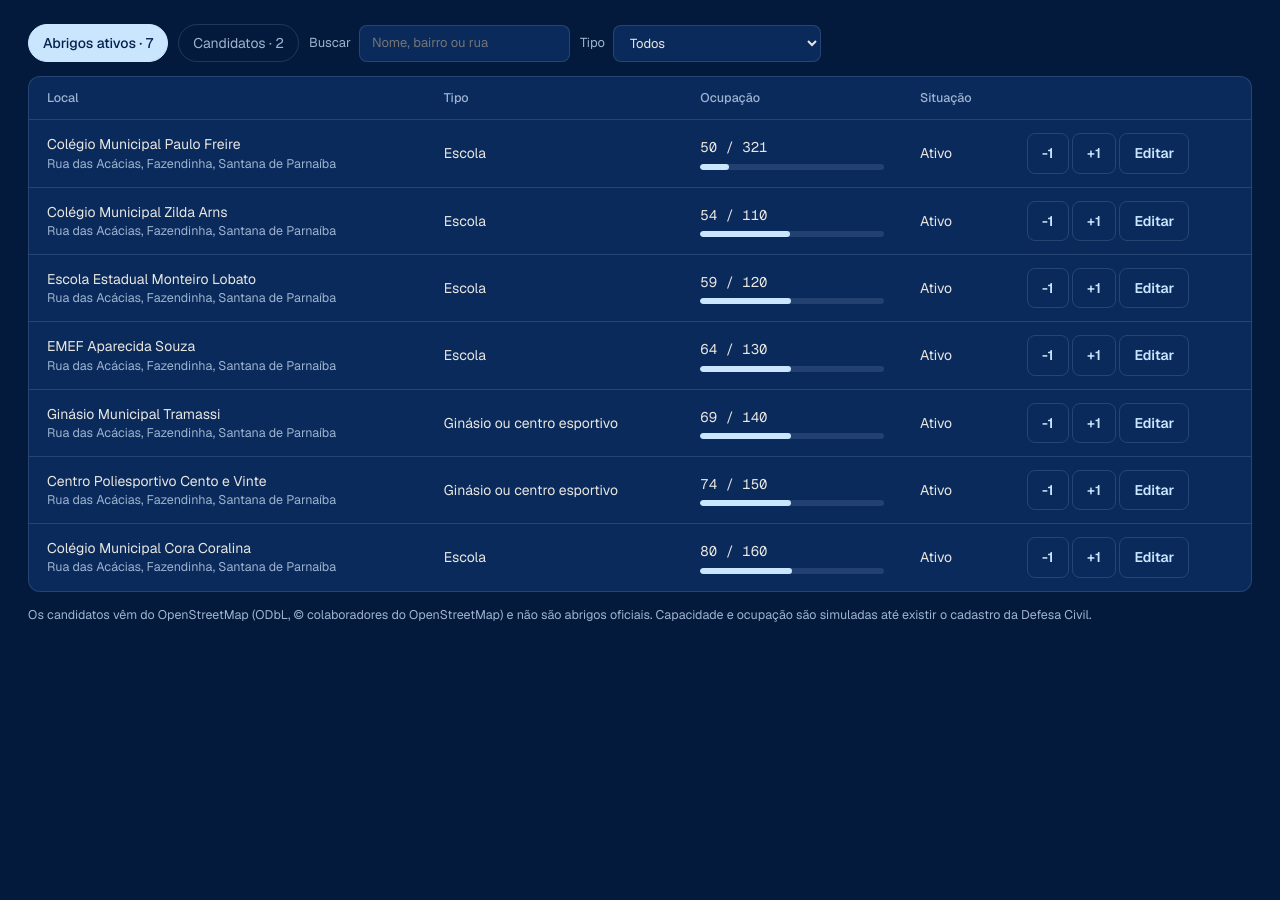
Abrigos › mostra erro quando o abrigo está lotado
Expected: the button "Abrigos ativos · 7" is shown, [28,24,168,62]
Click the button "Editar" in the row of "Colégio Municipal Paulo Freire".
click(1154, 154)  # box [1120,133,1189,174]
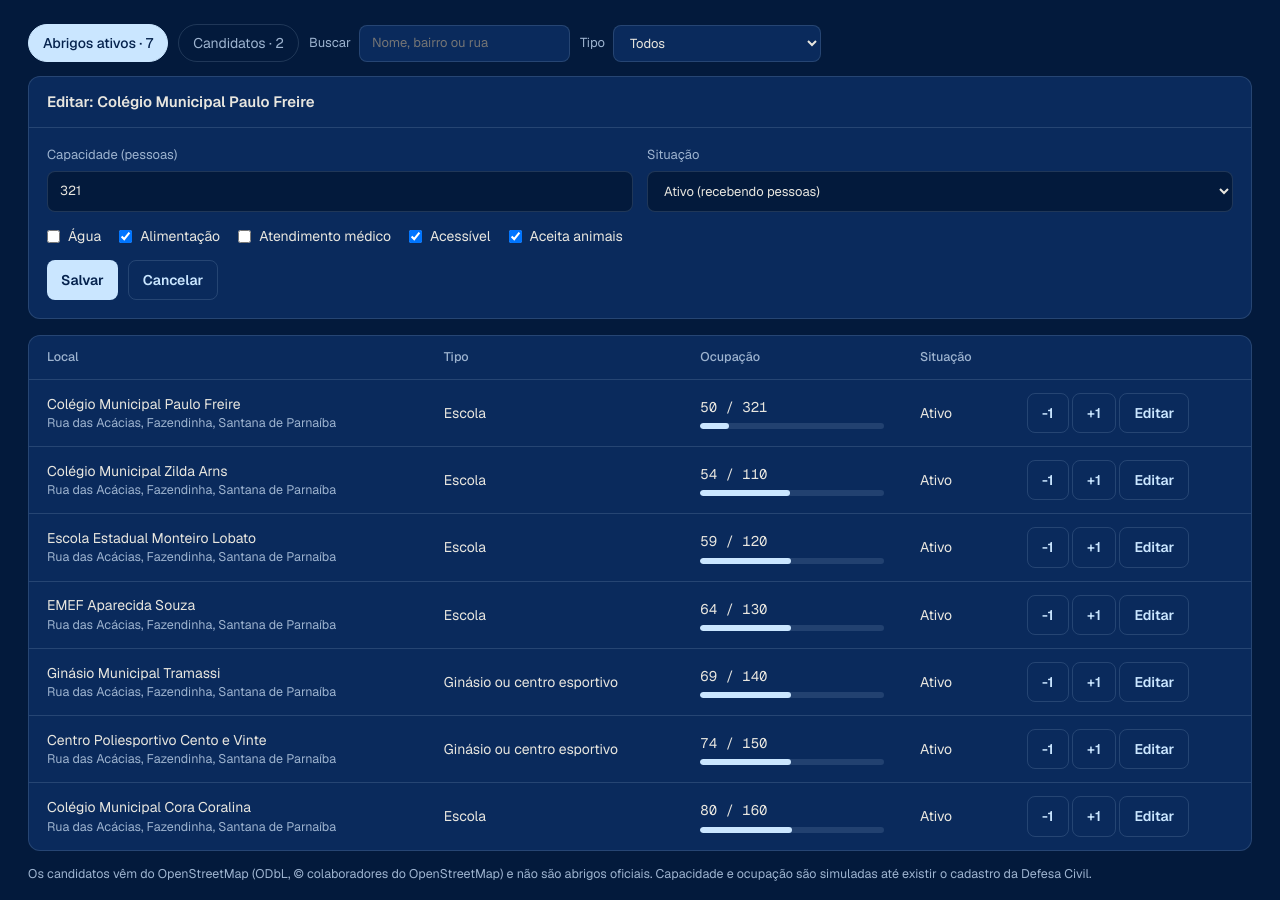
Replace the text in the number field labelled "Capacidade (pessoas)" with "1" at coordinates (340, 191), box [47,171,633,212]
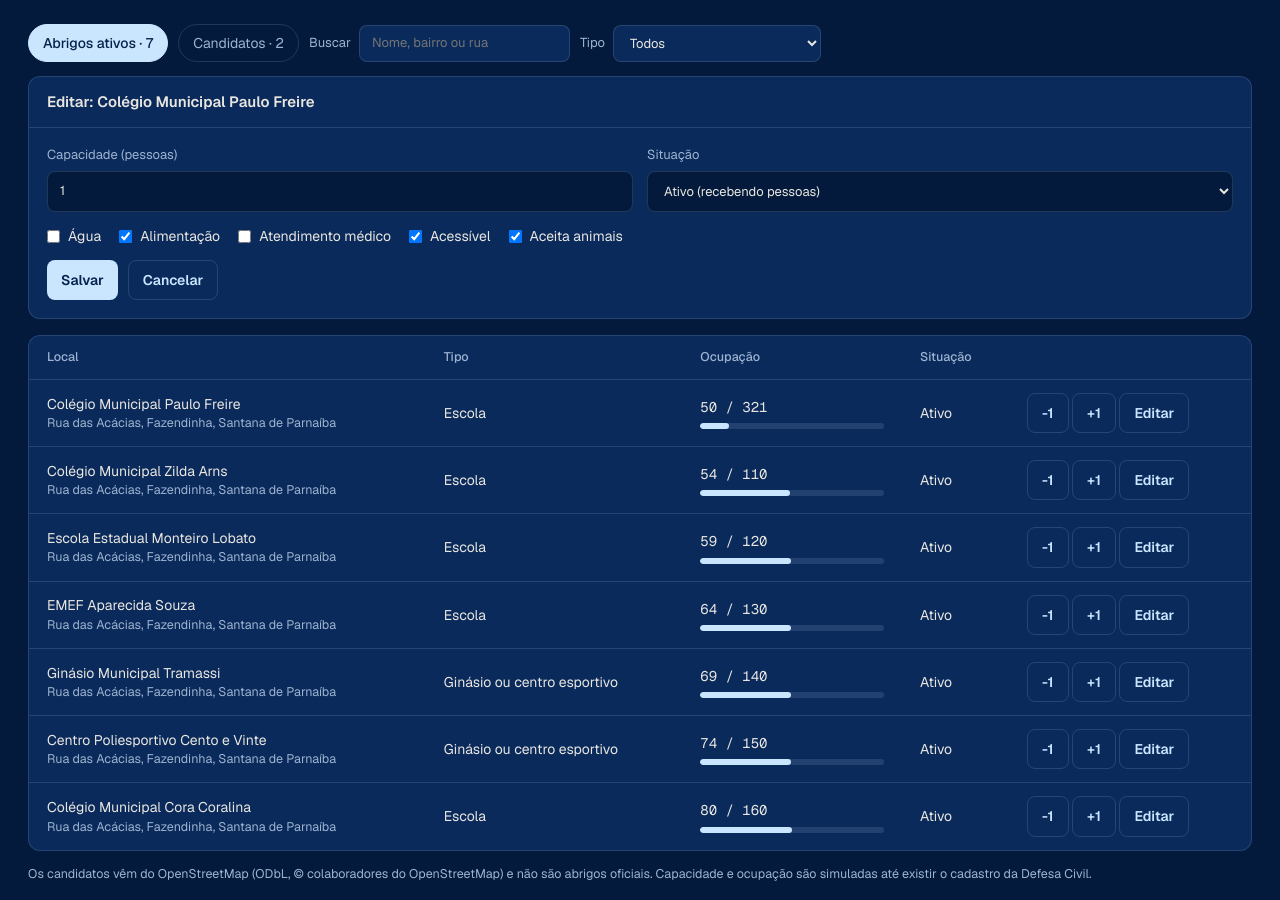
Click the button "Salvar".
click(82, 280)  # box [47,260,118,300]
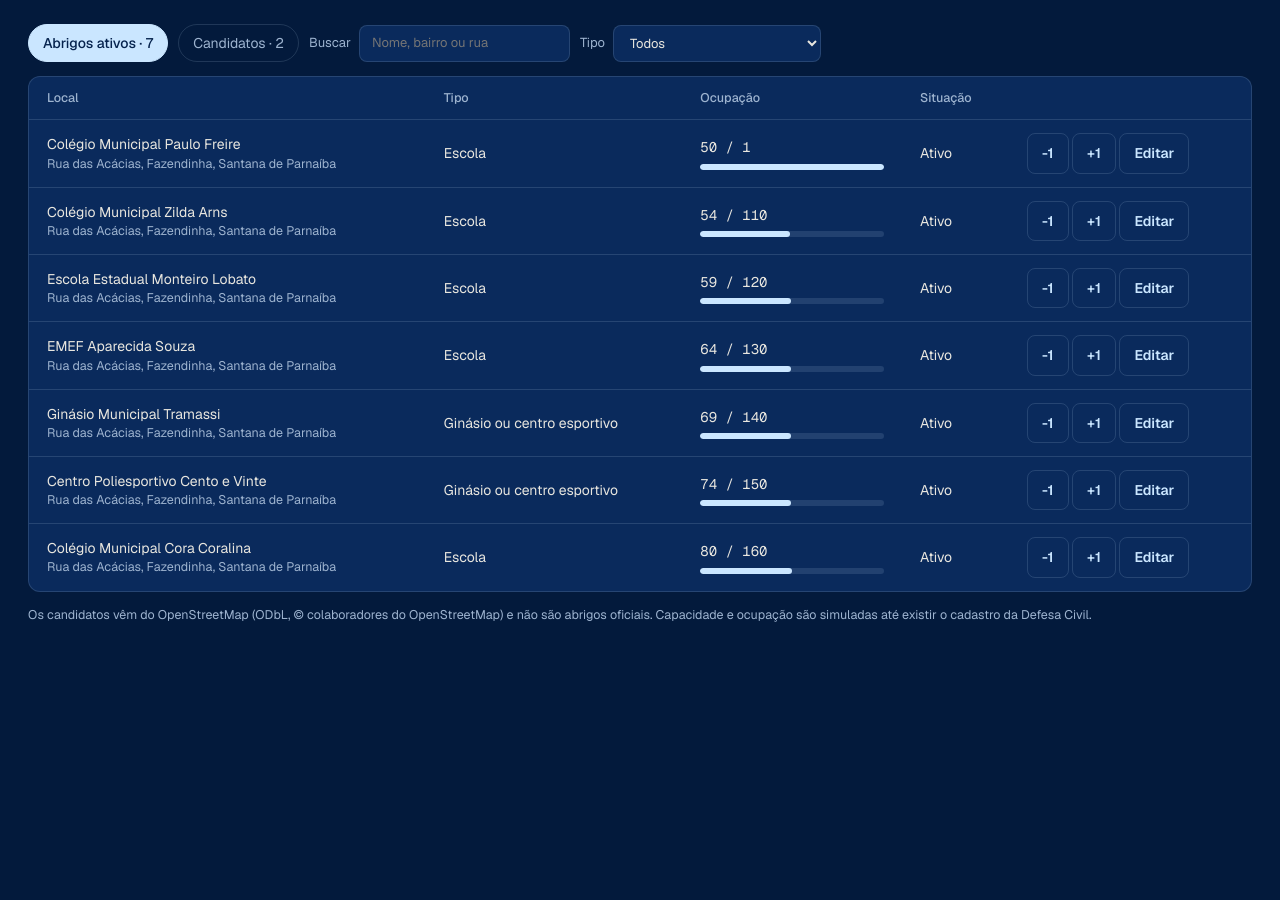
Result: the heading "Editar:" is gone
Click the button named "Registrar entrada".
click(1094, 154)  # box [1072,133,1116,174]
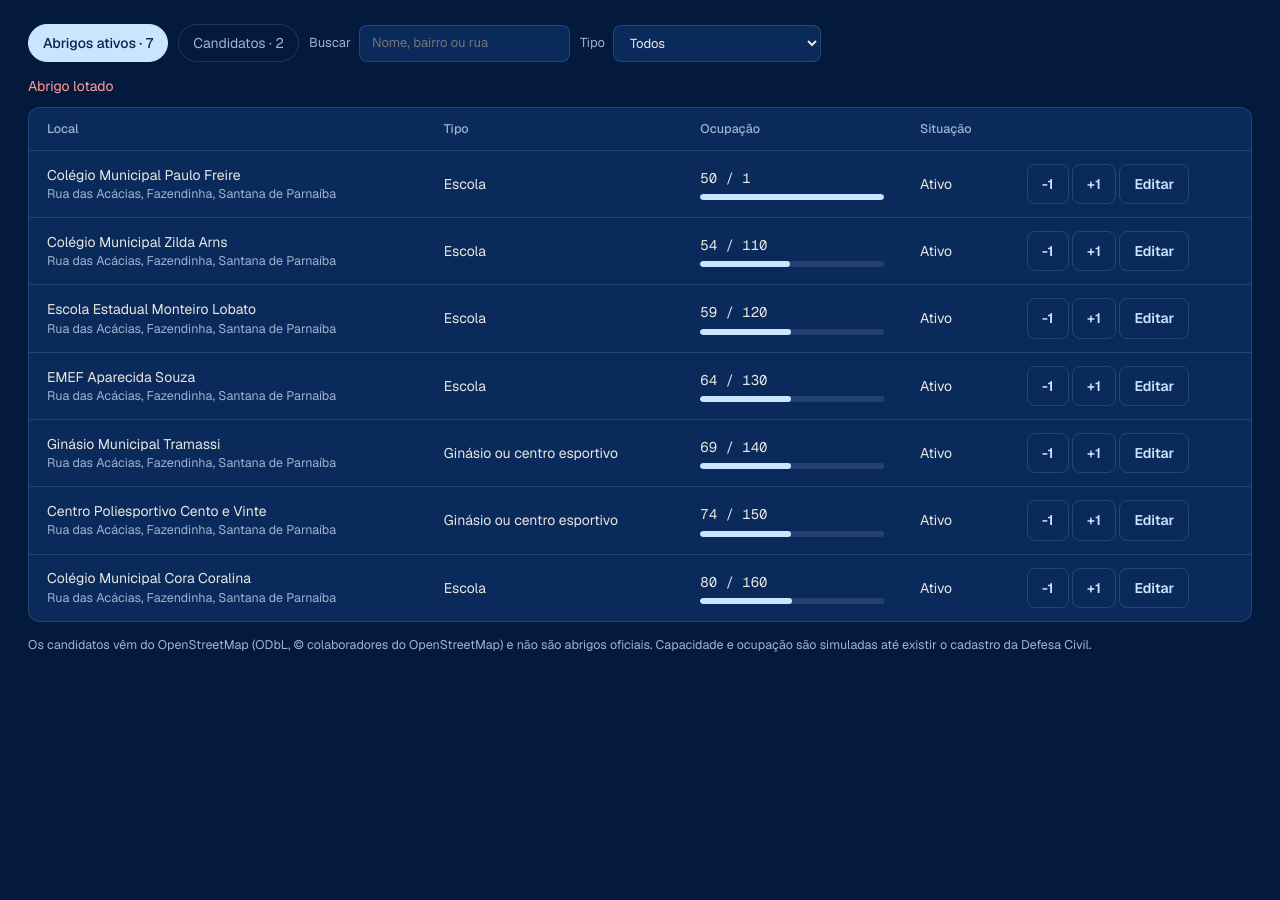
Result: the message reads "Abrigo lotado" at [28,77,114,95]
